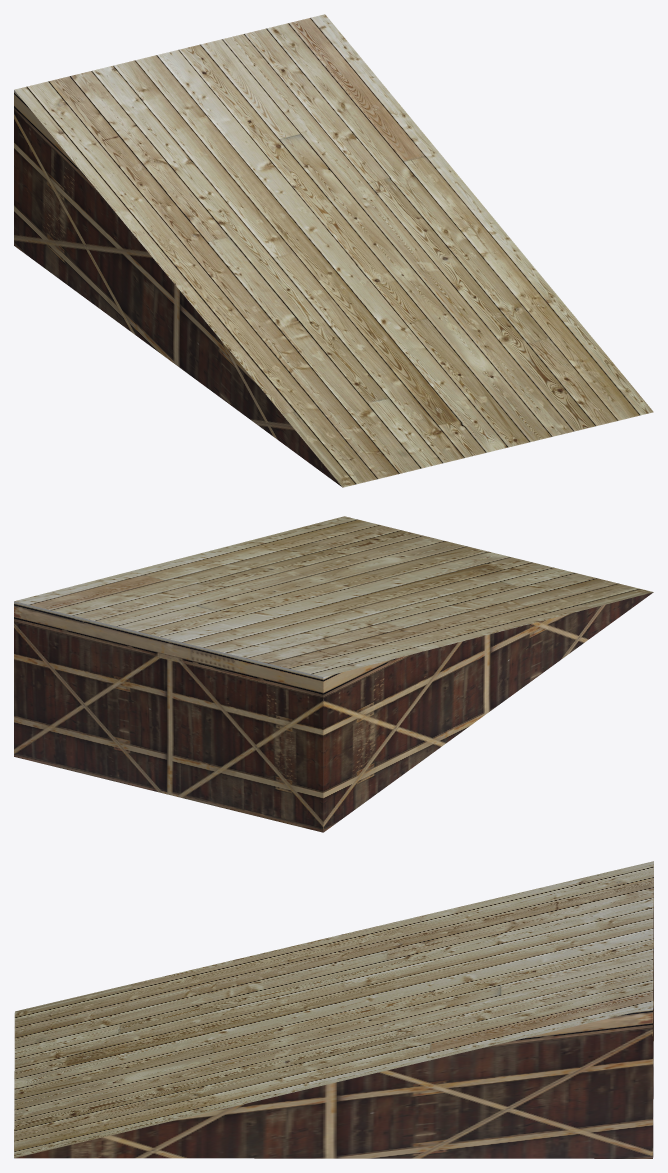
Rendered from Ramp.FBX.
3 renders of one model, top to bottom at view 1: azimuth 30°, elevation 25°; view 2: azimuth 150°, elevation 25°; view 3: azimuth 270°, elevation 25°, orthographic. The views are drawn at different scales.
Visible parts, largest first — view 1: Box01; view 2: Box01; view 3: Box01.
Boxes of the visible parts, x1=… form: Box01: x1=14, y1=14, x2=653, y2=487; Box01: x1=14, y1=516, x2=653, y2=832; Box01: x1=14, y1=861, x2=653, y2=1158.
Bounding box in the file's own units: 1.97 × 0.9417 × 3.62.
